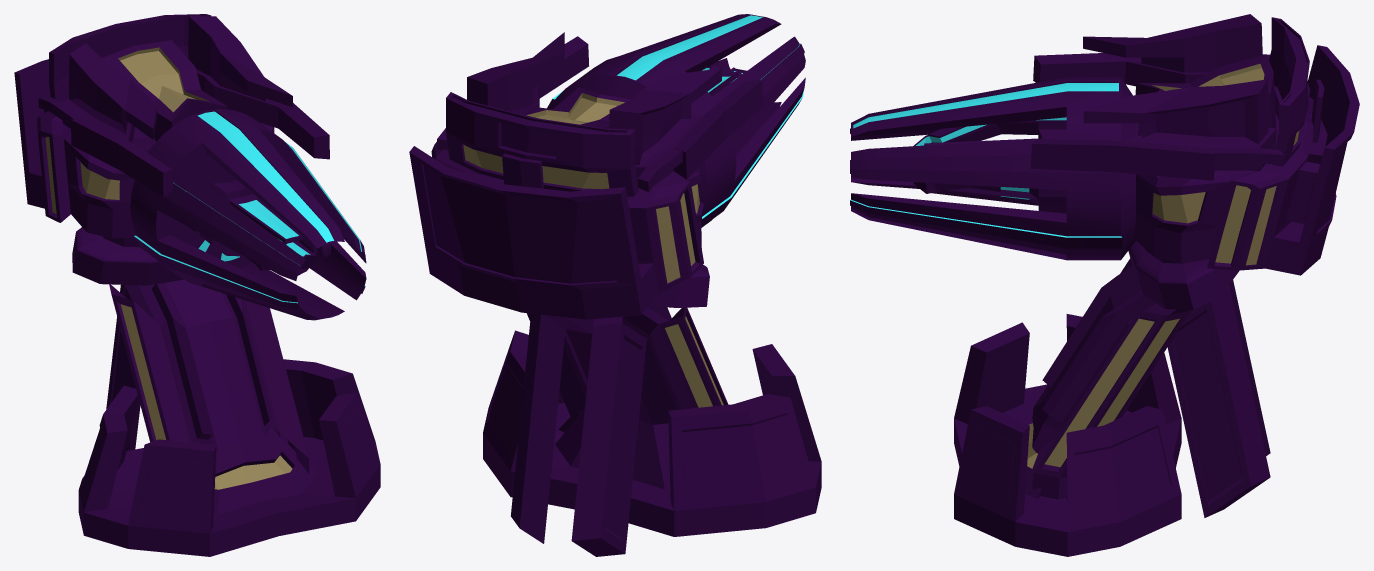
Rendered from HeavyLaser.fbx.
3 views of the same model, side by side, from view 1: azimuth 30°, elevation 25°; view 2: azimuth 150°, elevation 25°; view 3: azimuth 270°, elevation 25° (orthographic). The views are drawn at different scales.
Parts seen in each view (by area): view 1: BaseTower_Cylinder, Base_Cannon_Cylinder.001, Cylinder_Cylinder.004, Laser_Cylinder.003; view 2: Base_Cannon_Cylinder.001, BaseTower_Cylinder, Cylinder_Cylinder.004; view 3: BaseTower_Cylinder, Base_Cannon_Cylinder.001, Cylinder_Cylinder.004, Laser_Cylinder.003.
Boxes of the visible parts, <box> form: BaseTower_Cylinder: <box>78,279,380,556</box>; Base_Cannon_Cylinder.001: <box>14,14,329,285</box>; Cylinder_Cylinder.004: <box>130,109,366,320</box>; Laser_Cylinder.003: <box>189,179,330,275</box>; Base_Cannon_Cylinder.001: <box>409,32,762,319</box>; BaseTower_Cylinder: <box>483,305,821,556</box>; Cylinder_Cylinder.004: <box>547,14,805,227</box>; BaseTower_Cylinder: <box>954,258,1270,556</box>; Base_Cannon_Cylinder.001: <box>1030,14,1359,309</box>; Cylinder_Cylinder.004: <box>850,77,1135,260</box>; Laser_Cylinder.003: <box>913,117,1066,213</box>.
Size of the model in its own units: 629 by 862 by 892.
